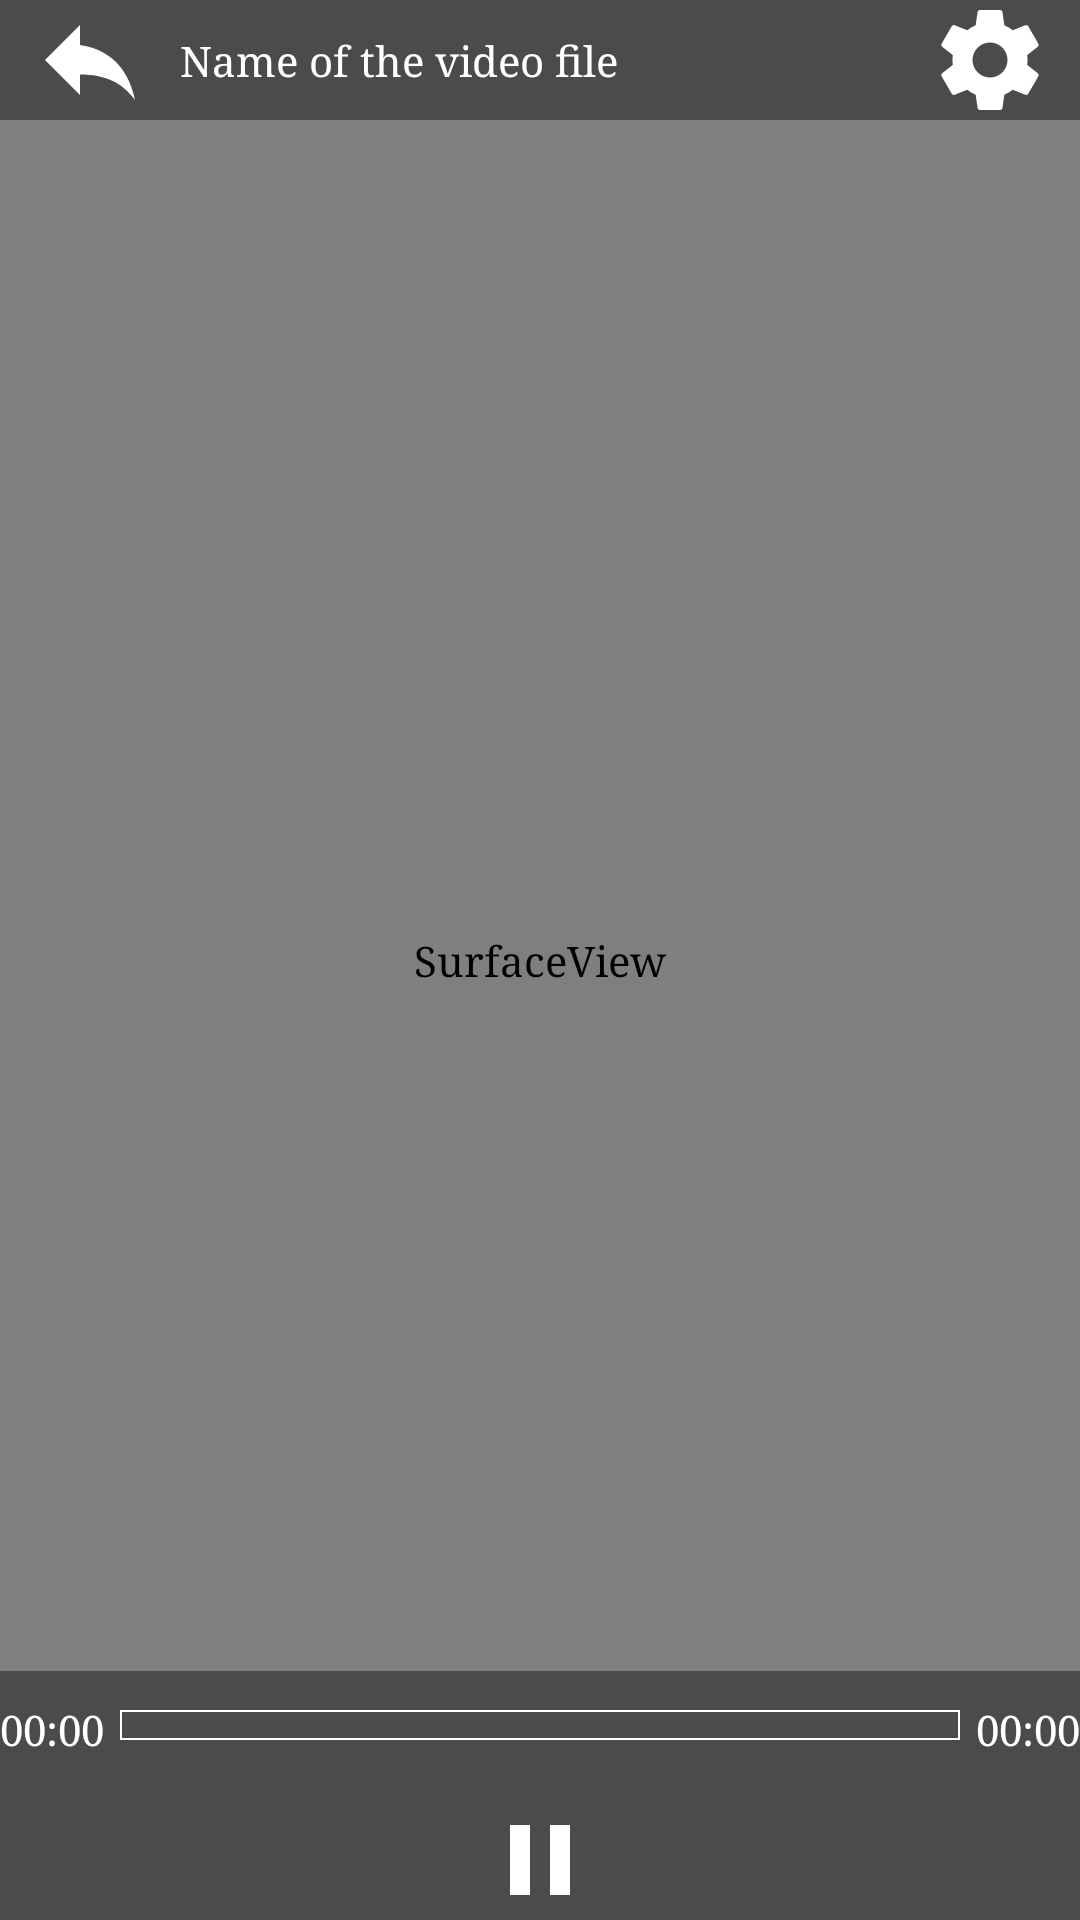

Icon bounding boxes for this 1080px×1920px phone screenshot, format (x1, y1, x2, y2):
back: (45, 25, 135, 100)
video pause: (510, 1825, 570, 1895)
video settings: (941, 10, 1039, 110)
